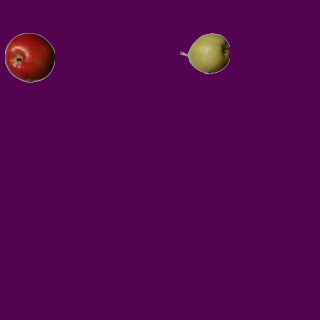Apple Braeburn: (4, 32, 54, 82)
Pear: (179, 28, 229, 78)
